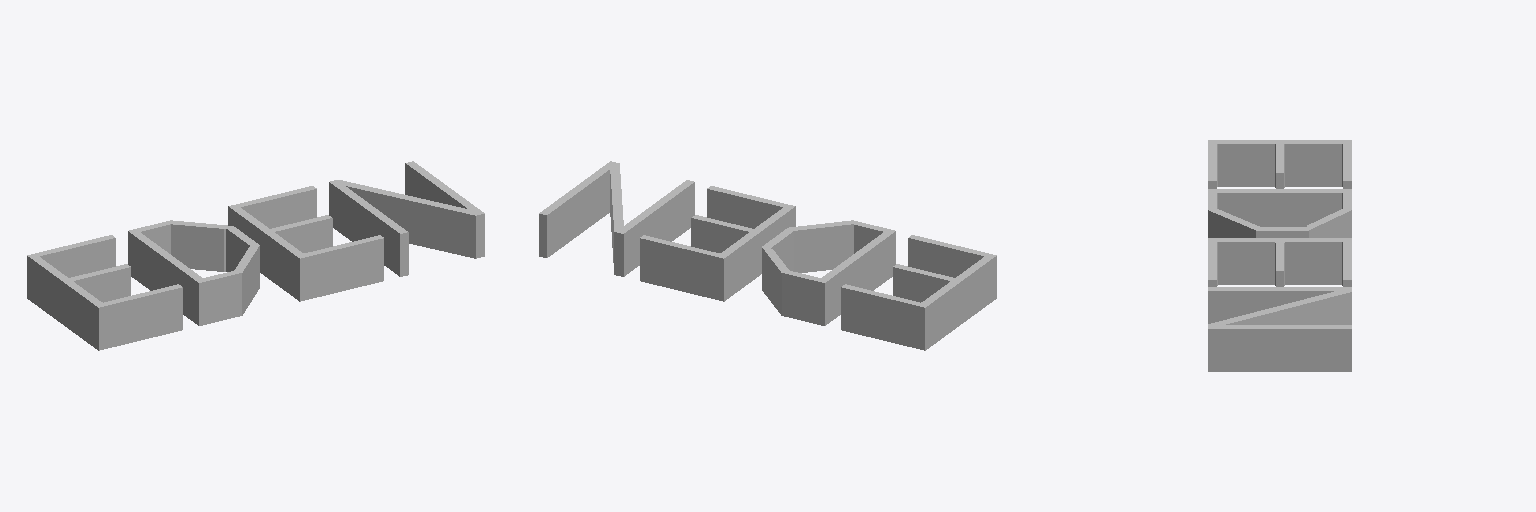
The model's file is eden IFCUBE.obj.
The picture shows the model from 3 angles: view 1: azimuth 30°, elevation 25°; view 2: azimuth 150°, elevation 25°; view 3: azimuth 270°, elevation 25°; orthographic projection.
Parts seen in each view (by area): view 1: Text; view 2: Text; view 3: Text.
Boxes of the visible parts, x1,y1,x2,y2 form: Text: [27, 161, 484, 350]; Text: [539, 161, 996, 350]; Text: [1208, 140, 1351, 371].
Bounding box in the file's own units: 1.88 × 0.2 × 0.602.